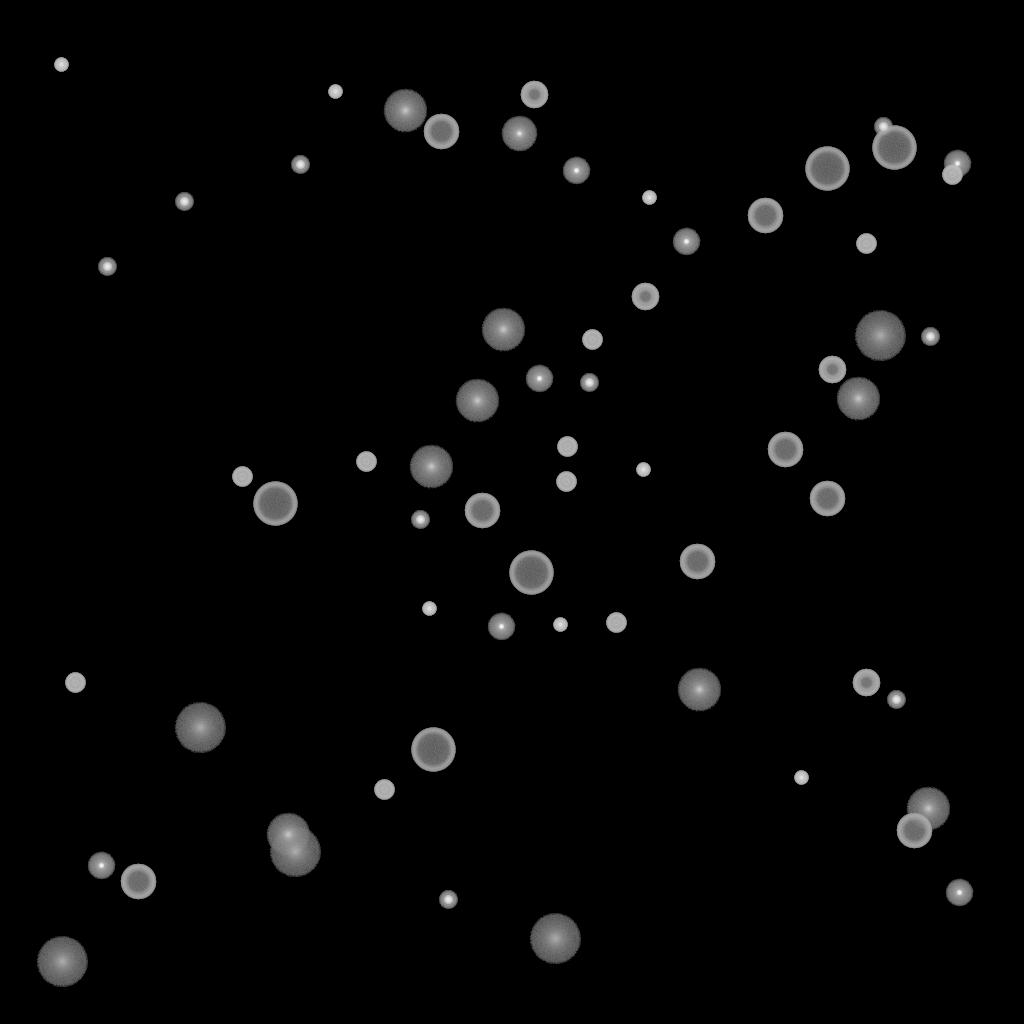depth:-10: (487, 613, 515, 641), (672, 228, 700, 256), (525, 365, 553, 393), (562, 157, 590, 185), (87, 852, 115, 880), (943, 150, 971, 178), (945, 879, 973, 907)
depth:-20: (98, 258, 116, 276), (887, 691, 905, 709), (291, 156, 309, 174), (921, 328, 939, 346), (175, 193, 193, 211), (439, 891, 457, 909), (411, 511, 429, 529), (874, 118, 892, 136), (580, 374, 598, 392)
depth:-30: (553, 618, 567, 632), (636, 463, 650, 477), (642, 191, 656, 205), (422, 602, 436, 616), (54, 58, 68, 72), (794, 771, 808, 785), (328, 85, 342, 99)
depth:-40: (582, 330, 602, 350), (65, 673, 85, 693), (557, 437, 577, 457), (374, 780, 394, 800), (856, 234, 876, 254), (232, 467, 252, 487), (606, 613, 626, 633), (356, 452, 376, 472), (942, 165, 962, 185), (556, 472, 576, 492)
depth:-50: (631, 283, 659, 311), (520, 81, 548, 109), (818, 356, 846, 384), (852, 669, 880, 697)
depth:-60: (120, 864, 156, 900), (679, 544, 715, 580), (747, 198, 783, 234), (464, 493, 500, 529), (809, 481, 845, 517), (423, 114, 459, 150), (767, 432, 803, 468), (896, 813, 932, 849)
depth:-70: (509, 551, 553, 595), (872, 126, 916, 170), (253, 482, 297, 526), (411, 728, 455, 772), (805, 147, 849, 191)
depth:0: (501, 116, 537, 152)
depth:10: (677, 668, 721, 712), (481, 308, 525, 352), (836, 377, 880, 421), (409, 445, 453, 489), (455, 379, 499, 423), (266, 813, 310, 857), (383, 89, 427, 133), (906, 787, 950, 831)
depth:20: (36, 937, 88, 987), (174, 703, 226, 753), (529, 914, 581, 964), (854, 311, 906, 361), (269, 827, 321, 877)
